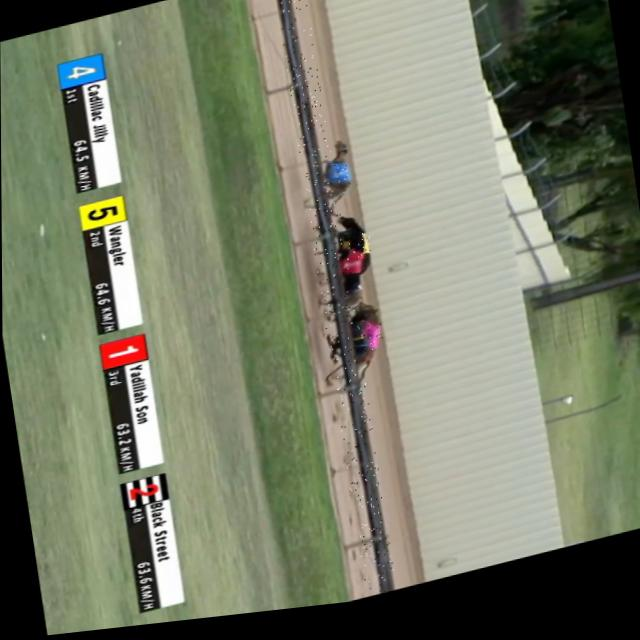dog_eight: (360, 330, 383, 361)
dog_five: (341, 240, 371, 271)
dog_four: (317, 168, 352, 199)
dog_one: (338, 255, 366, 284)
dog_seven: (346, 332, 368, 354)
rail: (275, 0, 394, 602)
